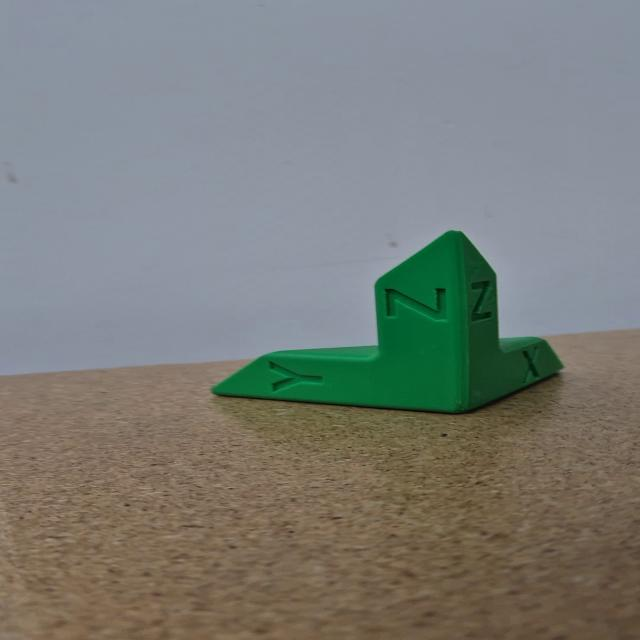objects: (205, 226, 573, 418)
